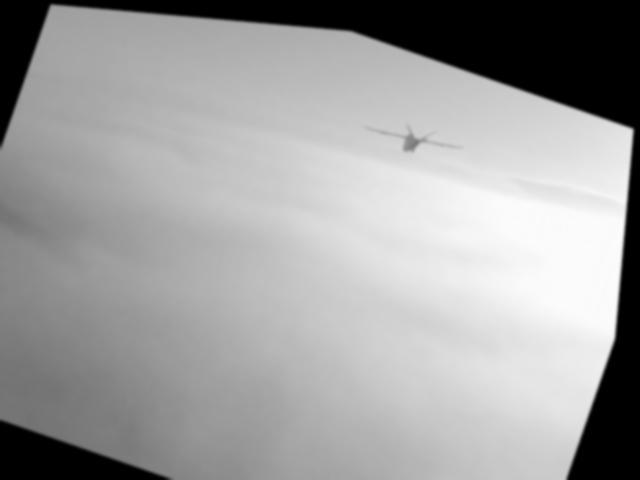hedef: (357, 87, 477, 171)
